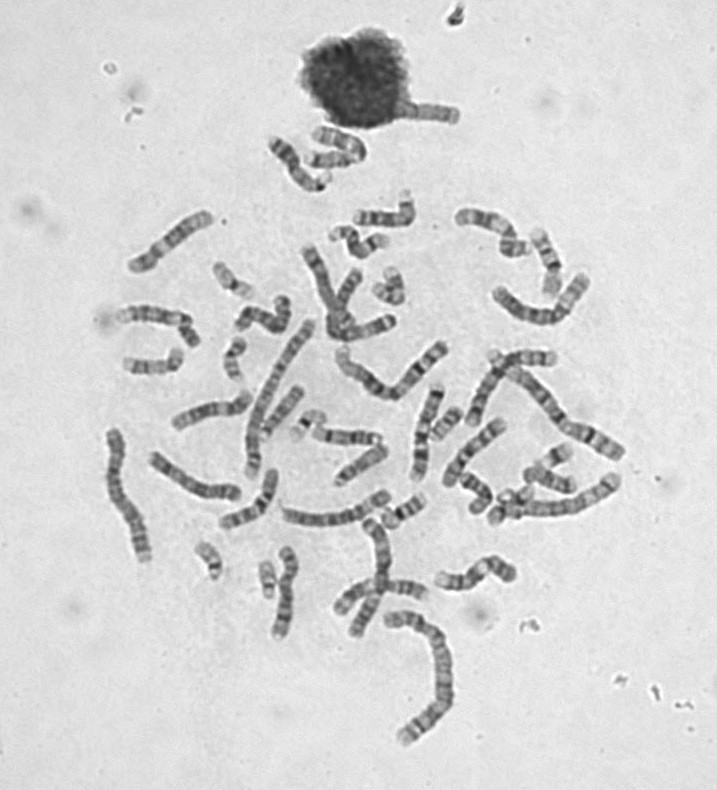chromosomes: (482, 350, 627, 465), (234, 316, 319, 483), (384, 608, 458, 750), (462, 344, 561, 434), (482, 471, 623, 532), (100, 428, 158, 571), (332, 337, 451, 403), (336, 512, 395, 639), (321, 262, 401, 353), (121, 206, 217, 277), (488, 267, 597, 328), (294, 238, 360, 332), (437, 412, 511, 495), (141, 452, 246, 506), (273, 483, 396, 528), (443, 205, 536, 263), (110, 300, 205, 352), (262, 134, 336, 195), (325, 578, 433, 618), (216, 469, 287, 529), (408, 379, 446, 486), (265, 543, 303, 643), (522, 220, 567, 304), (298, 122, 372, 172), (167, 388, 256, 429), (431, 555, 525, 593), (253, 385, 306, 448), (327, 446, 391, 494), (348, 188, 419, 230), (229, 293, 295, 337), (322, 221, 392, 260), (115, 345, 190, 381), (376, 490, 431, 532), (389, 99, 467, 128), (366, 267, 416, 310), (208, 260, 261, 300), (189, 536, 226, 588), (310, 425, 388, 449), (457, 471, 494, 519), (519, 467, 580, 496), (427, 403, 464, 448), (286, 404, 328, 441), (221, 333, 248, 385), (534, 442, 577, 467), (494, 486, 538, 508), (255, 561, 278, 602)
